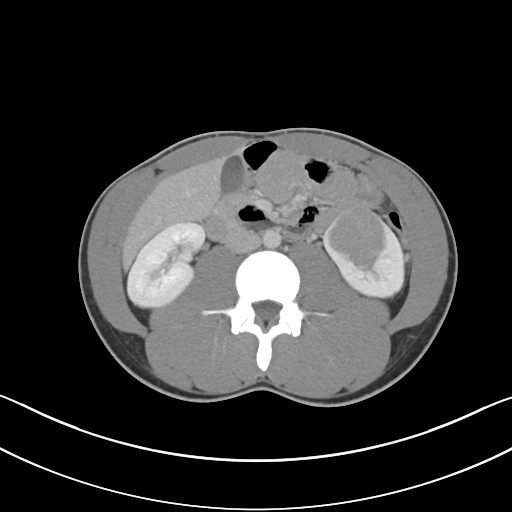Lesion: (325, 209, 391, 273)
